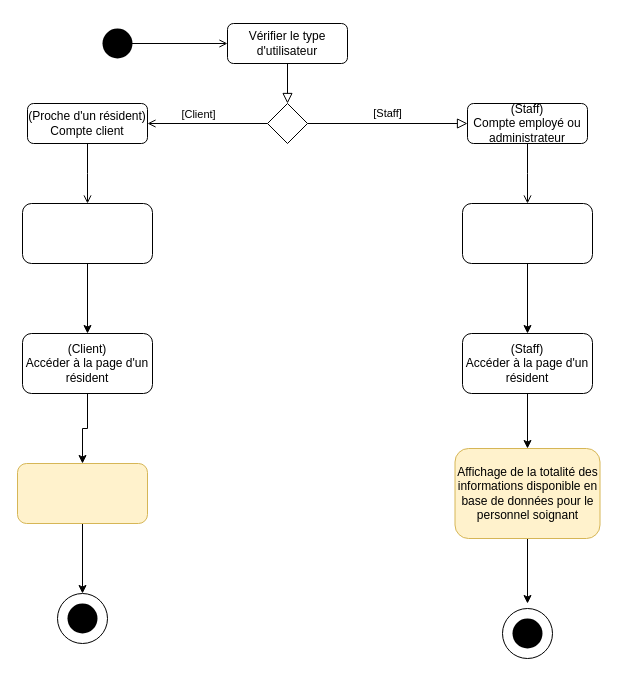
Image size: 618x677. Some labels were removed from this diagram. Each missing label, with the centre of its shape:
(Client) Accéder à la liste des résidents liés au proche: point 87,233
(Staff) Accéder à la liste de l'ensemble des résidents: point 527,233
Affichage d'informations destinées aux proches: point 82,493
